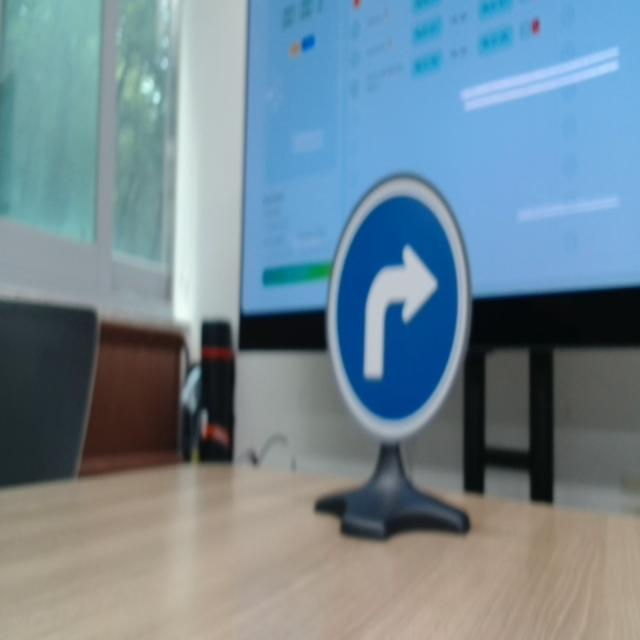right_dierection: (320, 160, 478, 447)
